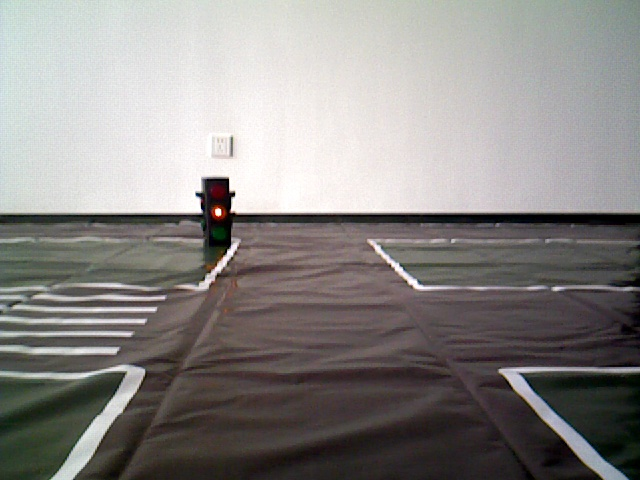yellow: (200, 178, 232, 242)
